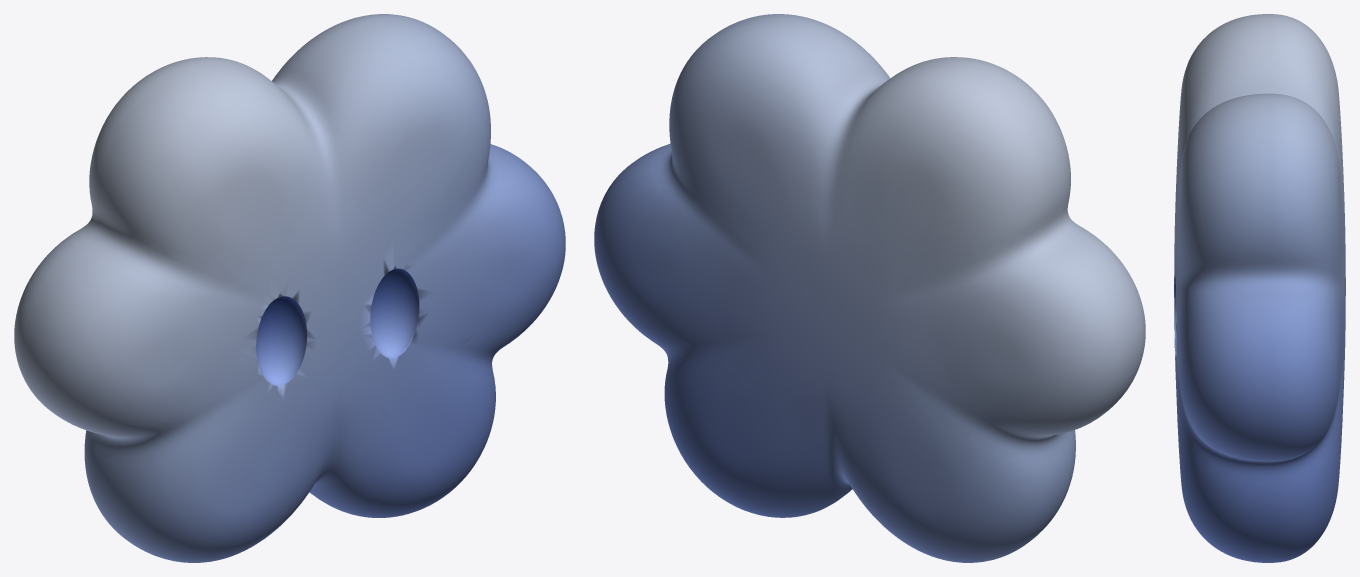
File: preparer.glb
The picture shows the model from 3 angles, left to right: view 1: azimuth 30°, elevation 25°; view 2: azimuth 150°, elevation 25°; view 3: azimuth 270°, elevation 25°; orthographic projection. The views are drawn at different scales.
Parts seen in each view (by area): view 1: Preparer; view 2: Preparer; view 3: Preparer.
Part boxes in pixels (x1=…): Preparer: x1=14, y1=14, x2=565, y2=562; Preparer: x1=594, y1=14, x2=1145, y2=562; Preparer: x1=1174, y1=14, x2=1345, y2=562.
Bounding box in the file's own units: 2.35 × 2.07 × 0.7196.
